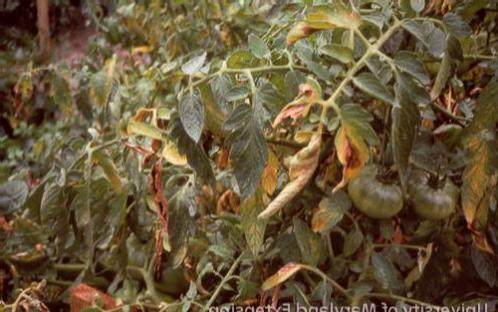Tomato leaf: (255, 125, 325, 217), (458, 130, 497, 250), (388, 77, 426, 180), (229, 102, 268, 197), (331, 100, 370, 190), (279, 3, 358, 46), (264, 79, 322, 126), (428, 29, 463, 101), (180, 87, 203, 143)
